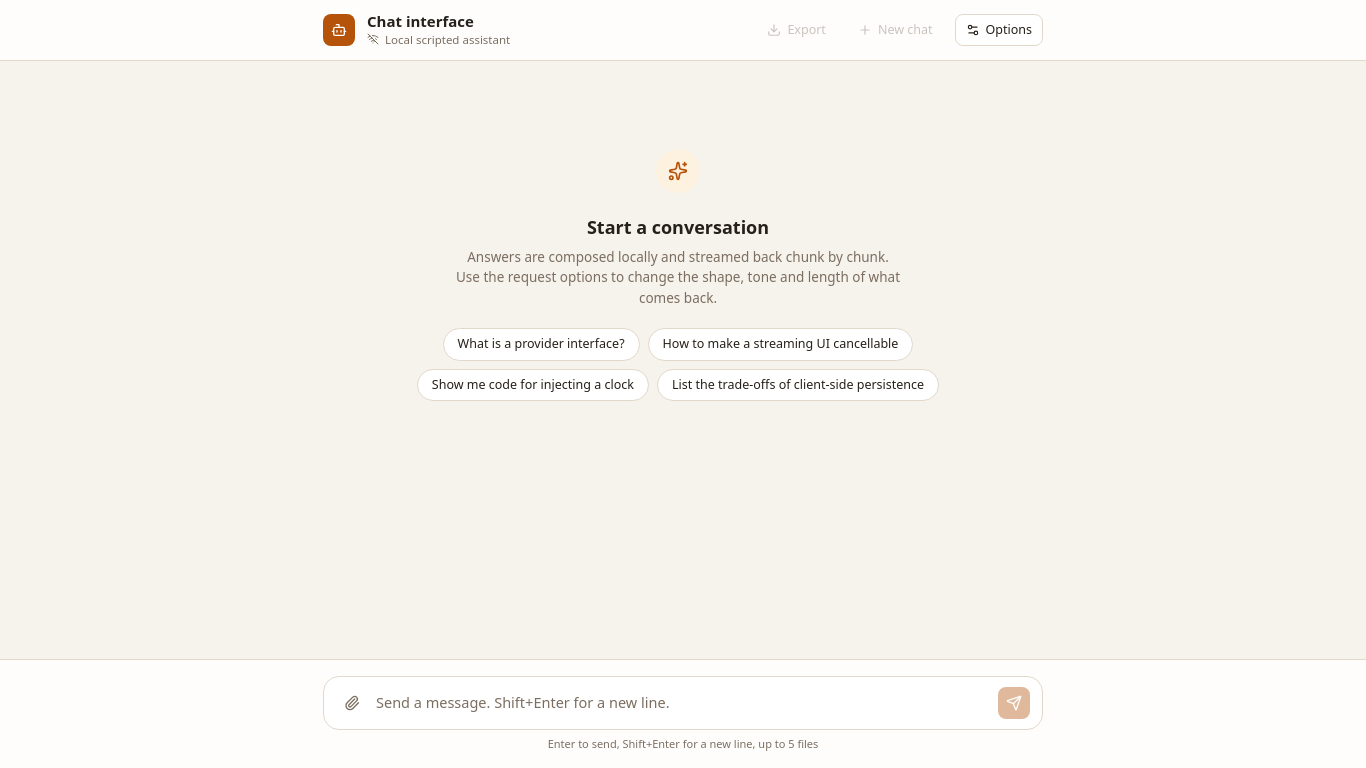
it: App › renders a code block from the scripted provider
The image size is (1366, 768).
Step 1. Type "show me code for a clock" into the text box labelled "Send a message. Shift+Enter for a new line." → (683, 702), box [376,686,990,718]
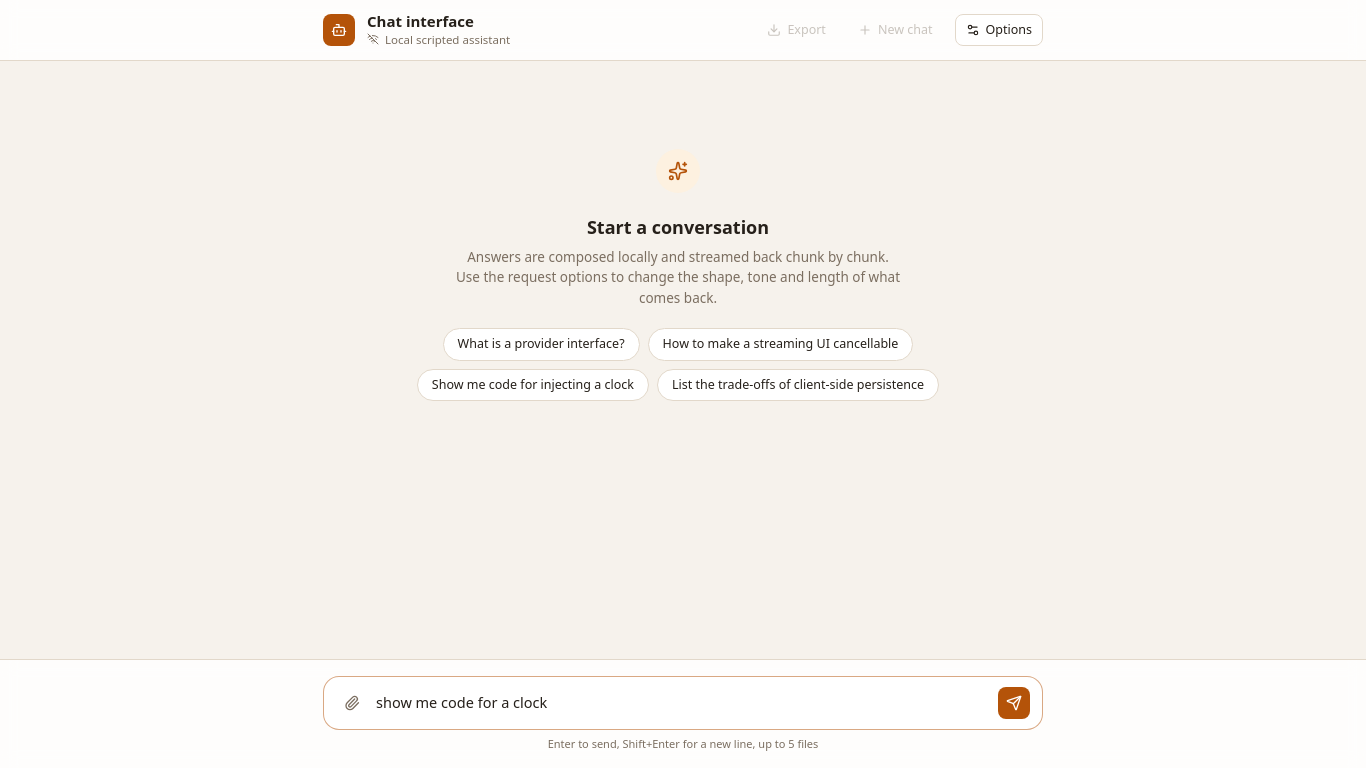
Step 2. Click the button named "send message" → (1014, 702), box [998,686,1030,718]
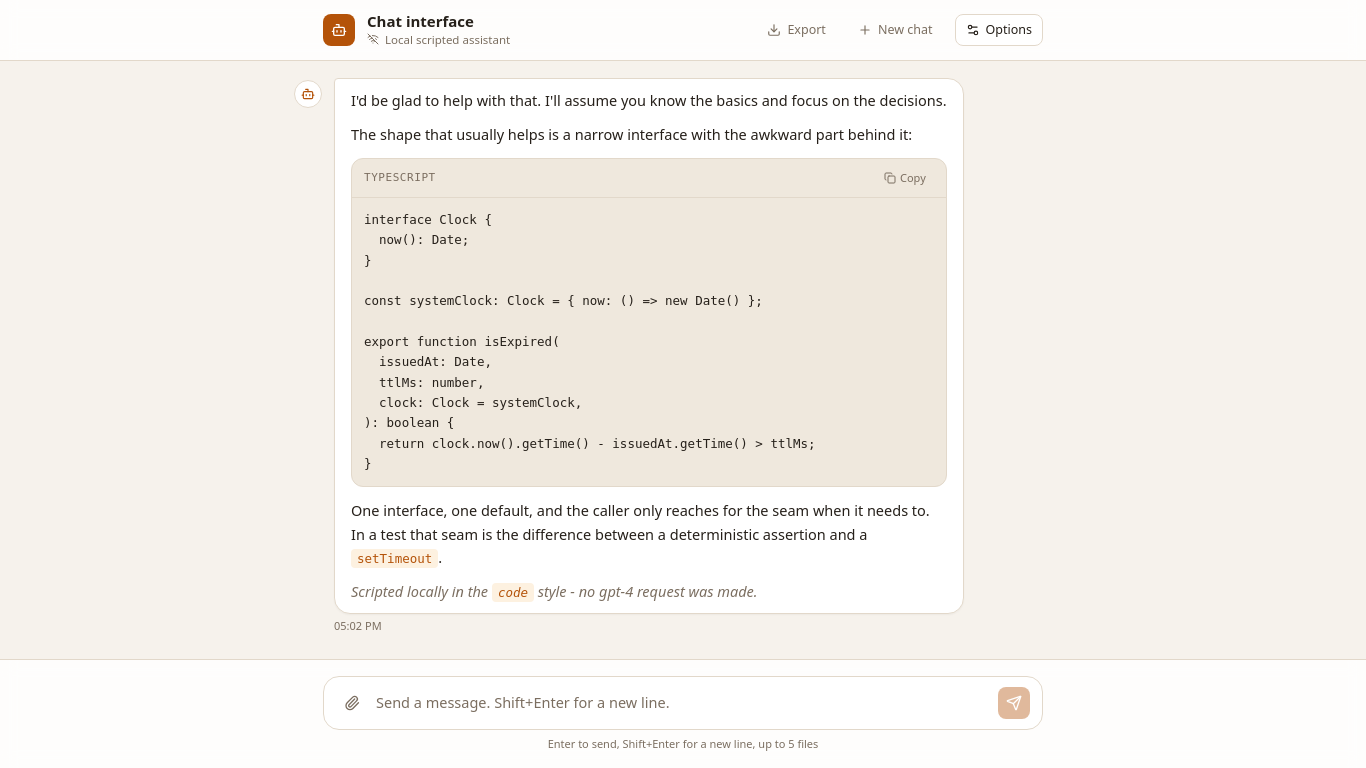
Now the text "typescript" is shown, box [364,169,436,187]
Now the button with aria-label "copy code" is shown, box [876,165,934,191]
